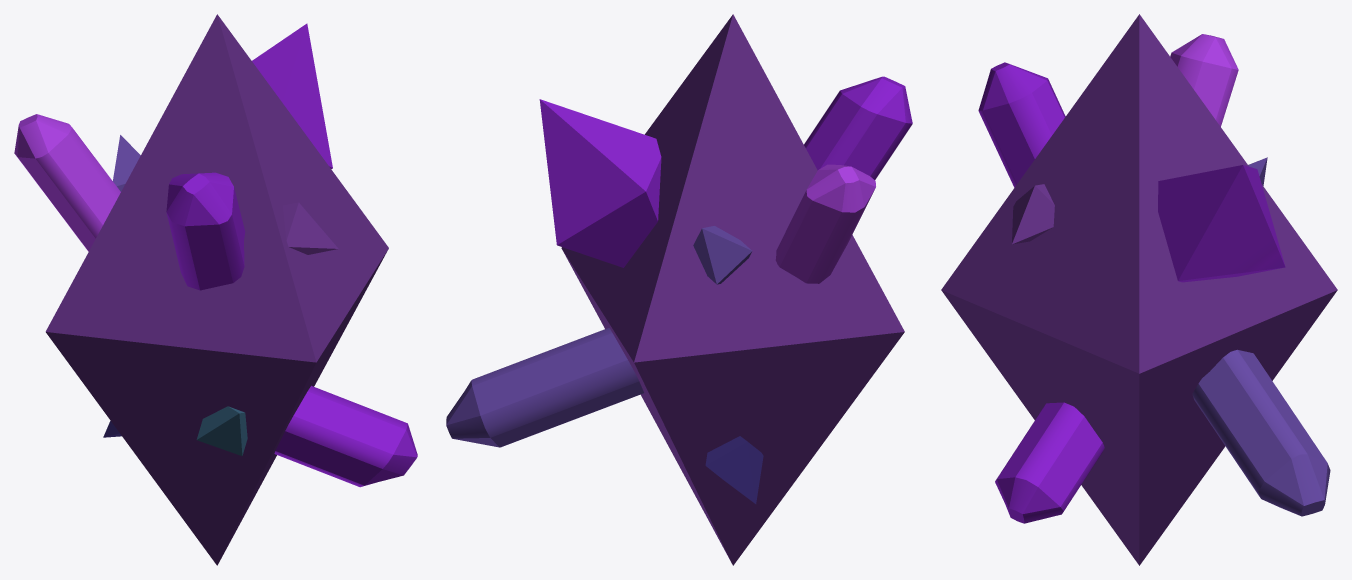
File: enviornment_diamond_growth3_asset.fbx
3 views of the same model, side by side, from view 1: azimuth 30°, elevation 25°; view 2: azimuth 150°, elevation 25°; view 3: azimuth 270°, elevation 25° (orthographic).
Parts seen in each view (by area): view 1: polySurface21; view 2: polySurface21; view 3: polySurface21.
Part boxes in pixels (x1,y1,x2,y2): polySurface21: (14, 14, 417, 565); polySurface21: (446, 14, 912, 565); polySurface21: (941, 14, 1337, 565).
Size of the model in its own units: 4.69 by 6.58 by 4.29.
